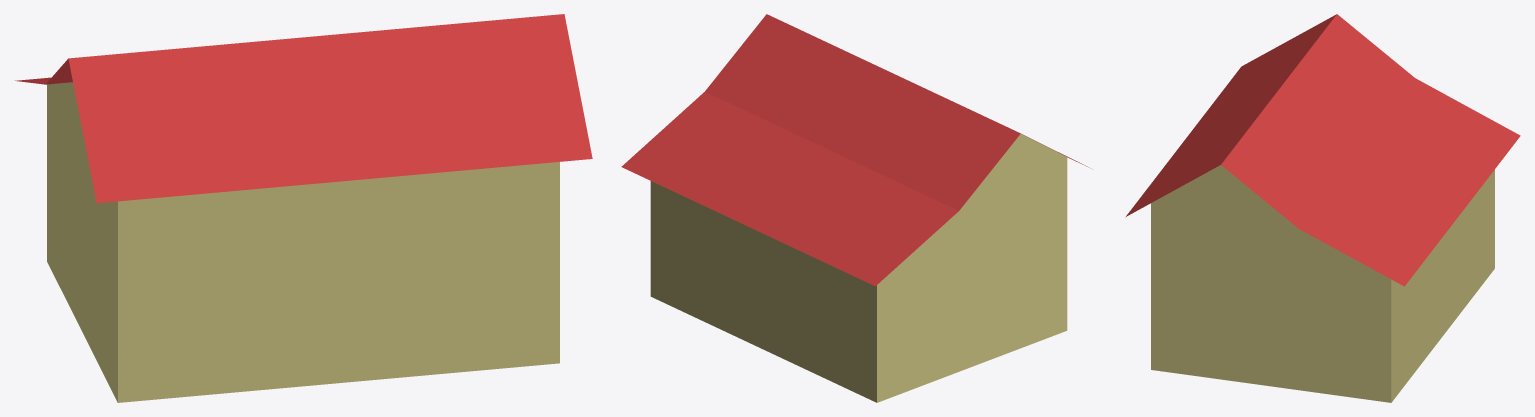
3 renders of one model, left to right at view 1: azimuth 30°, elevation 25°; view 2: azimuth 150°, elevation 25°; view 3: azimuth 270°, elevation 25°, orthographic. The views are drawn at different scales.
Size of the model in its own units: 21.88 by 19.32 by 12.06.
